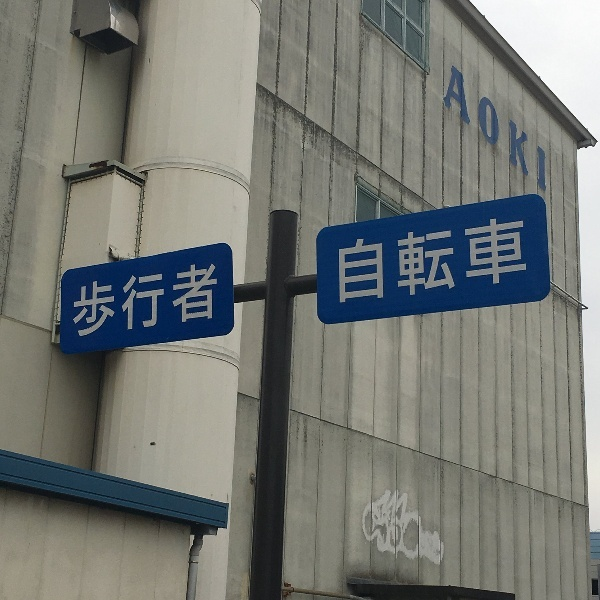text: (465, 64, 480, 193), (481, 64, 496, 193), (497, 64, 512, 193), (513, 64, 528, 193), (529, 64, 544, 193), (452, 64, 464, 193), (353, 215, 368, 304), (369, 215, 384, 304), (385, 215, 400, 304), (401, 215, 416, 304), (417, 215, 432, 304), (433, 215, 448, 304), (449, 215, 464, 304), (465, 215, 480, 304), (481, 215, 496, 304), (497, 215, 512, 304), (513, 215, 528, 304), (339, 215, 352, 304), (81, 261, 96, 338), (97, 261, 112, 338), (113, 261, 128, 338), (129, 261, 144, 338), (145, 261, 160, 338), (161, 261, 176, 338), (177, 261, 192, 338), (193, 261, 208, 338), (66, 261, 80, 338), (209, 261, 218, 338), (545, 64, 547, 193)
